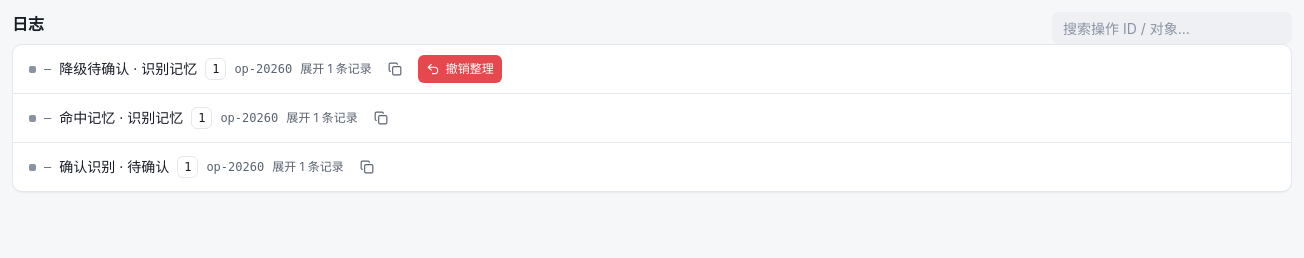
Test: LogsPage(分组契约冒烟,mock fixtures 无时间字段) › 撤销整理:二次确认后以组内最新 audit 行 id 执行,成功显示已撤销
Click the button "撤销整理".
click(460, 69)  # box [418,55,502,83]
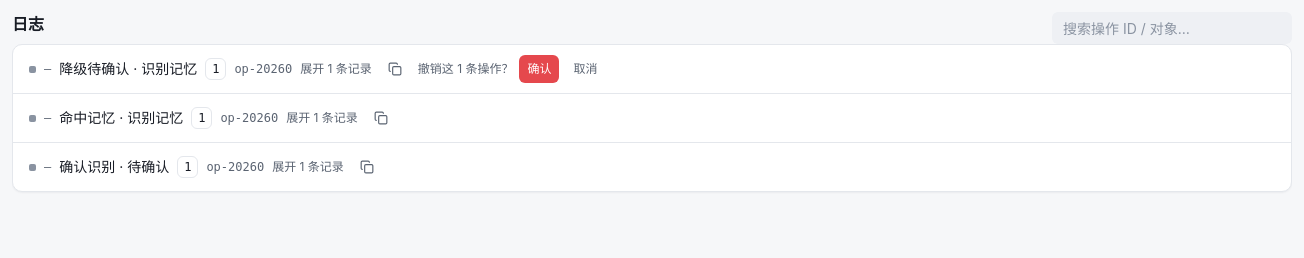
Expected: the text "撤销这 1 条操作？" is shown, [418,61,513,77]
Click the button "确认".
click(540, 69)  # box [520,55,560,83]
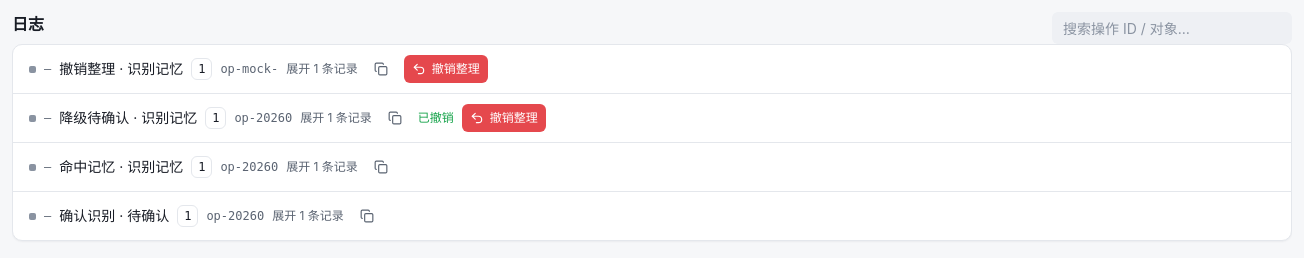
Expected: the text "已撤销" is shown, [418,110,454,126]
Expected: the text titled "op-mock-0001" is shown, [220,61,278,77]
